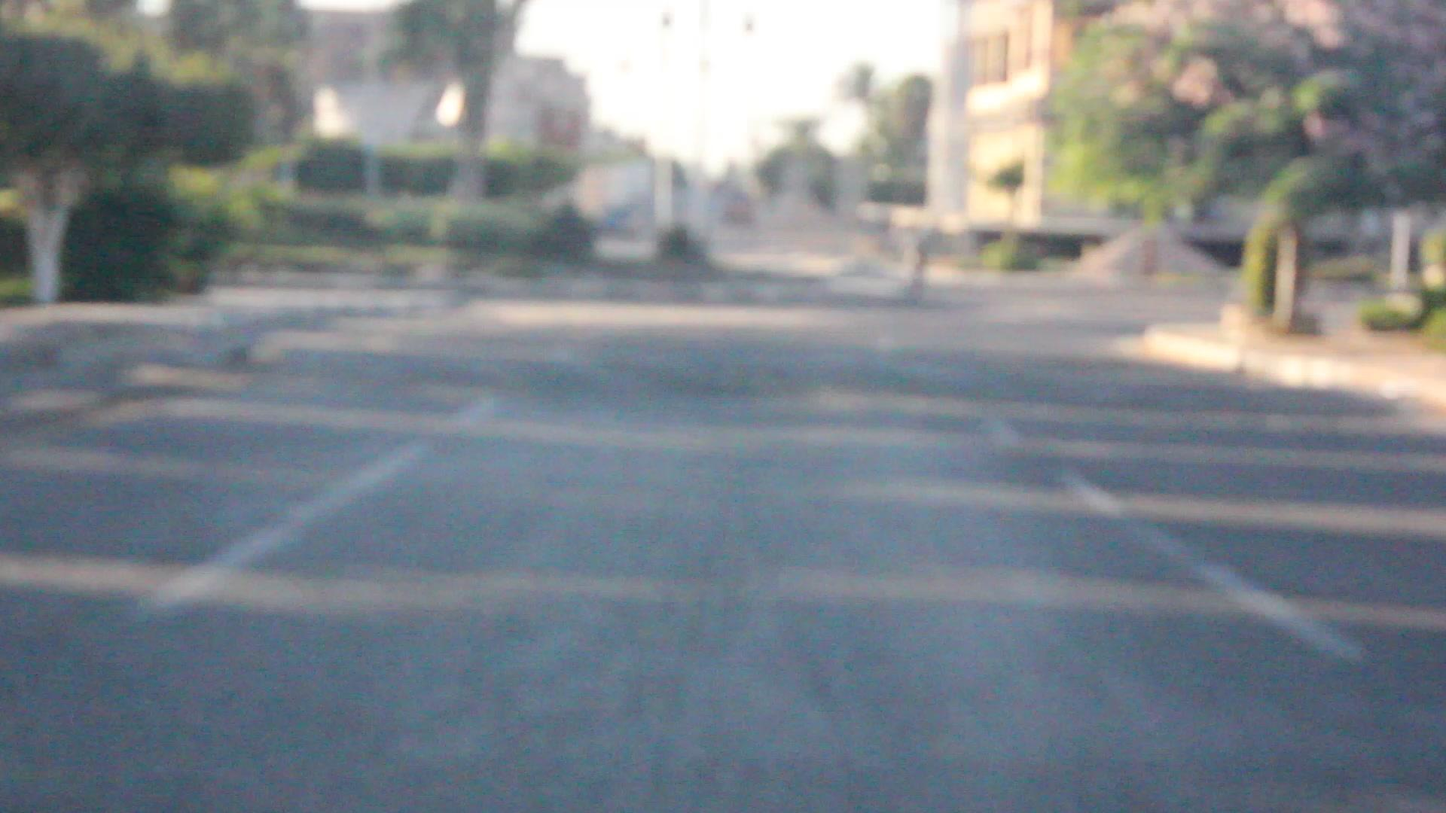Bump: (260, 326, 1346, 416)
